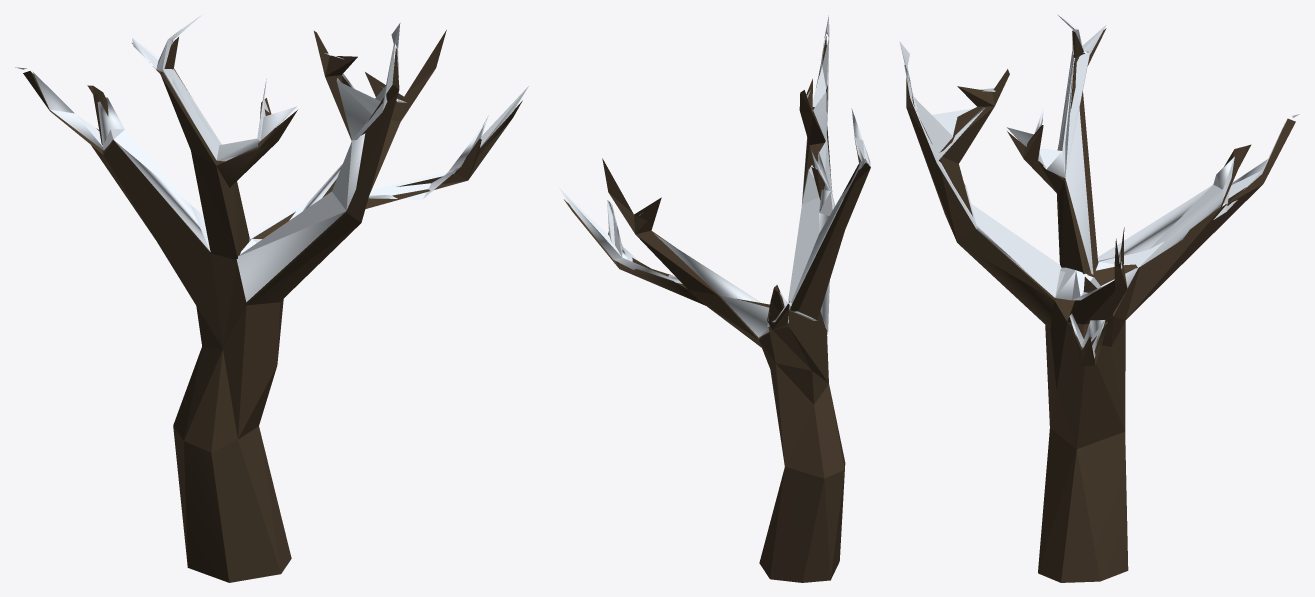
File: Snowy Forest Tree 1.fbx
The picture shows the model from 3 angles, left to right: view 1: azimuth 30°, elevation 25°; view 2: azimuth 150°, elevation 25°; view 3: azimuth 270°, elevation 25°; orthographic projection. The views are drawn at different scales.
Visible parts, largest first — view 1: Cube.003; view 2: Cube.003; view 3: Cube.003.
Boxes of the visible parts, <box> form: Cube.003: <box>15,14,528,582</box>; Cube.003: <box>558,15,870,582</box>; Cube.003: <box>899,14,1299,582</box>.
Bounding box in the file's own units: 1241 × 1760 × 1156.
